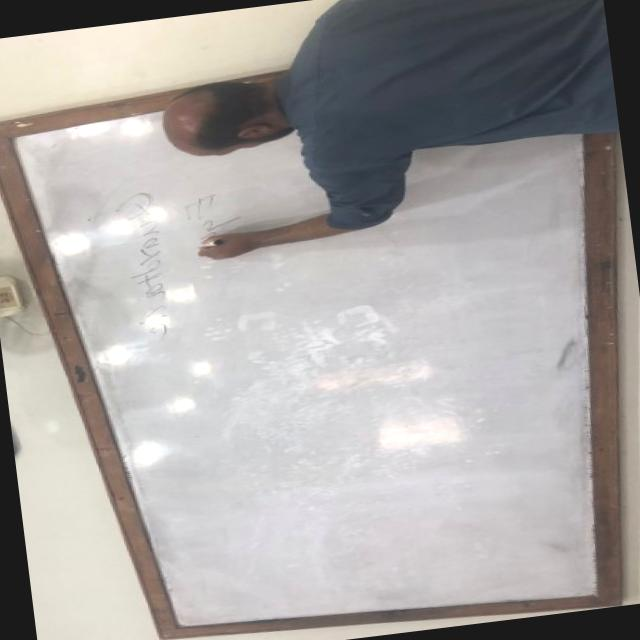Instructor: (132, 1, 618, 174)
White-board: (0, 18, 614, 633)
